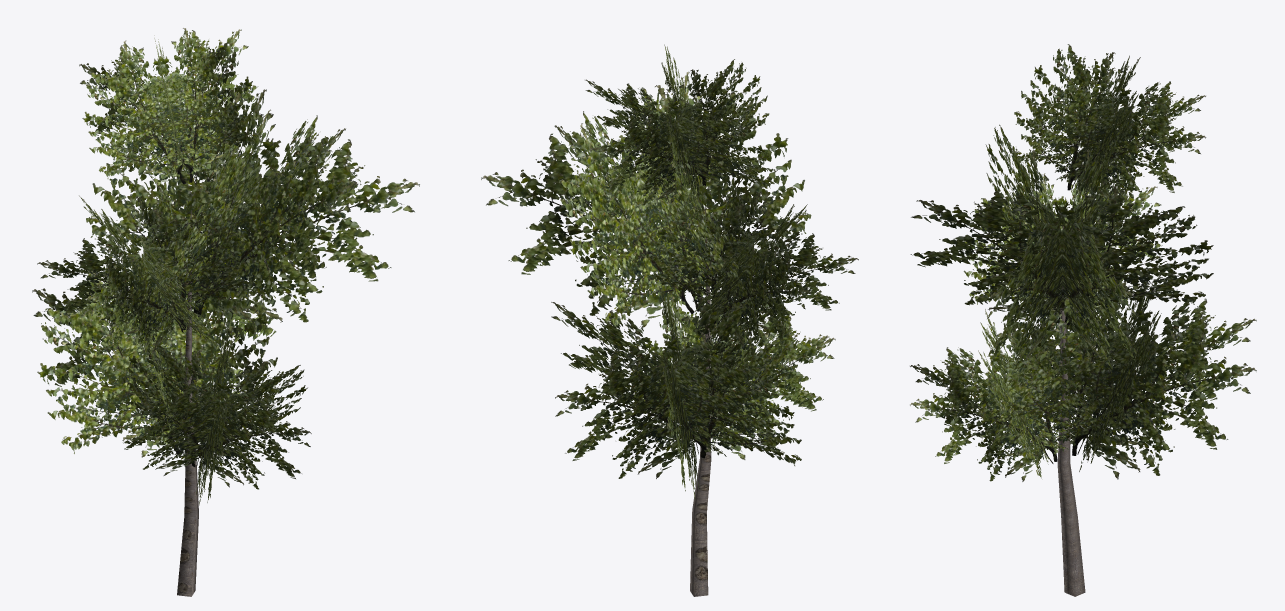
Rendered from ArbolVR1Retocado.fbx.
3 views of the same model, side by side, from view 1: azimuth 30°, elevation 25°; view 2: azimuth 150°, elevation 25°; view 3: azimuth 270°, elevation 25° (orthographic). The views are drawn at different scales.
Visible parts, largest first — view 1: ARBOL ESTEBAN 2; view 2: ARBOL ESTEBAN 2; view 3: ARBOL ESTEBAN 2.
Part boxes in pixels (x1,y1,x2,y2): ARBOL ESTEBAN 2: [32, 28, 419, 596]; ARBOL ESTEBAN 2: [481, 44, 858, 596]; ARBOL ESTEBAN 2: [910, 44, 1256, 596].
Size of the model in its own units: 455 by 721 by 435.
